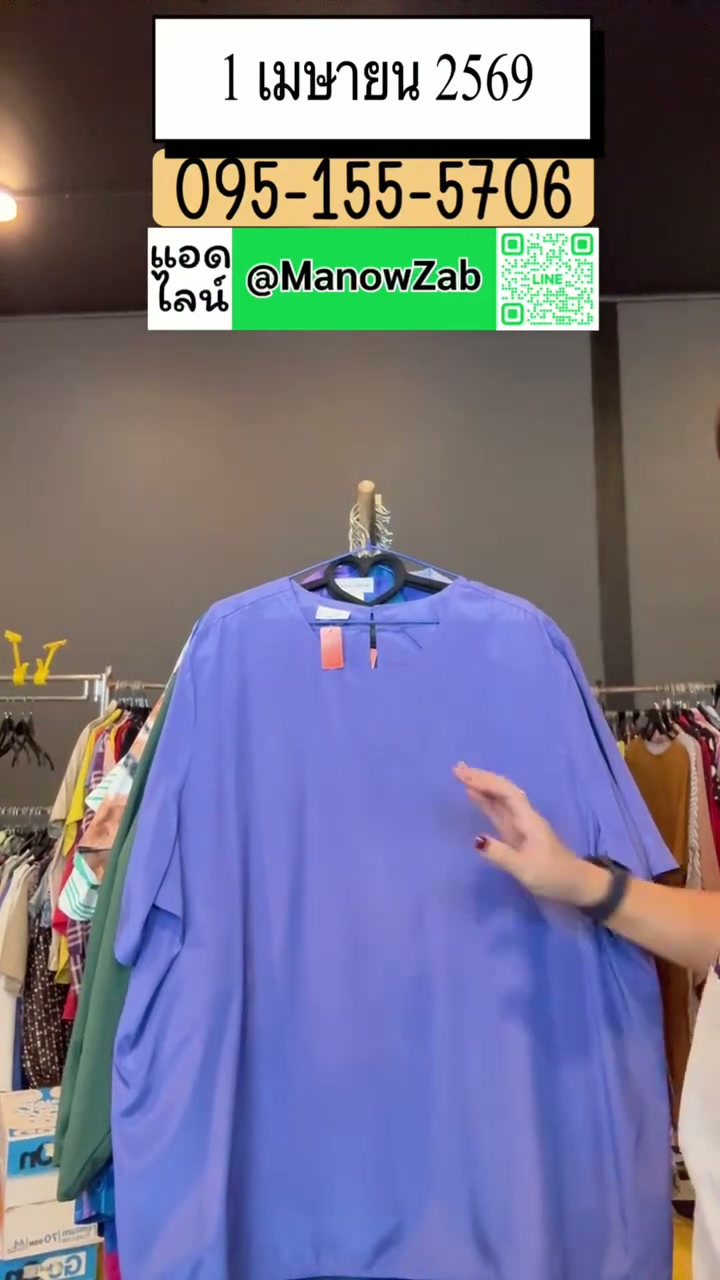display_shirt: (54, 554, 674, 1279), (112, 578, 671, 1279)
